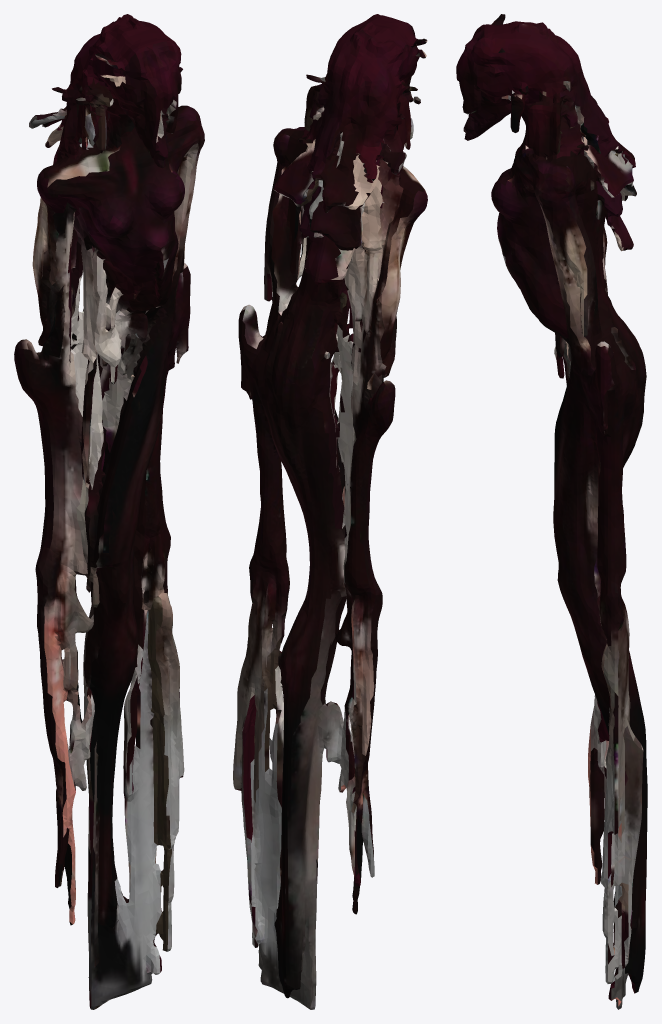
The model's file is garak_horror8.glb.
The picture shows the model from 3 angles, left to right: view 1: azimuth 30°, elevation 25°; view 2: azimuth 150°, elevation 25°; view 3: azimuth 270°, elevation 25°; orthographic projection. The views are drawn at different scales.
Parts seen in each view (by area): view 1: horror8.obj; view 2: horror8.obj; view 3: horror8.obj.
Boxes of the visible parts, x1,y1,x2,y2 form: horror8.obj: [14, 14, 204, 1009]; horror8.obj: [233, 14, 427, 1009]; horror8.obj: [456, 14, 647, 1009].
Size of the model in its own units: 0.3479 by 1.96 by 0.3514.
Materials: 1 (1 with a texture image).
